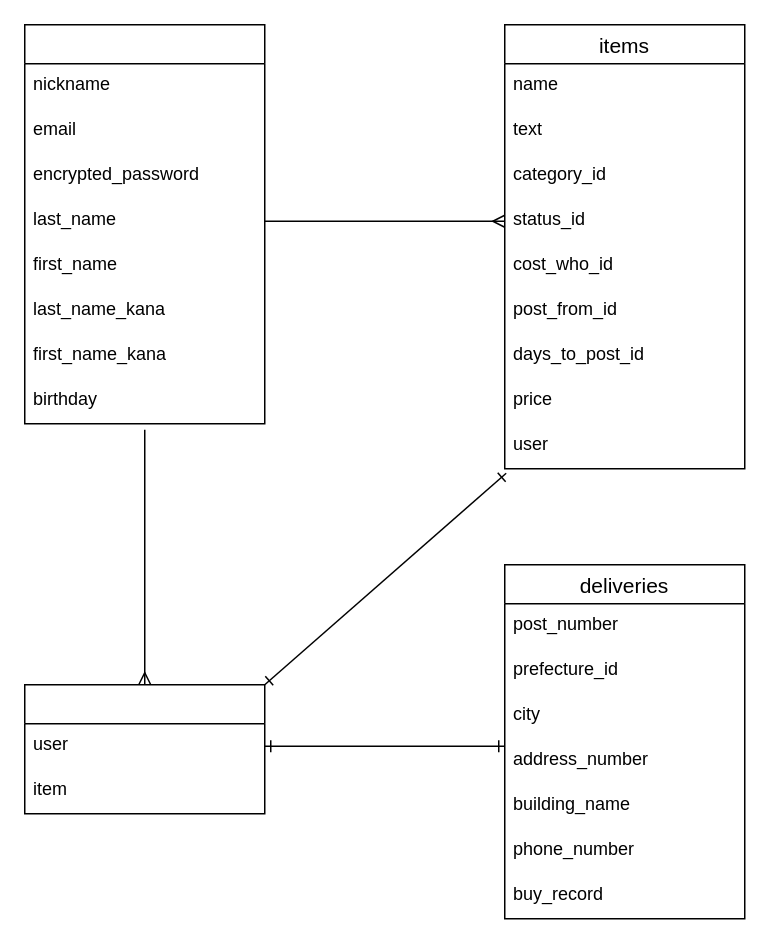
The diagram is 770 pixels wide and 944 high, and some of its shapes have lost their labels. The box of each missing label's shape, as (x1, y1, x2, y2) in pixels:
buy_records: (23, 683, 265, 814)
users: (23, 23, 265, 424)
